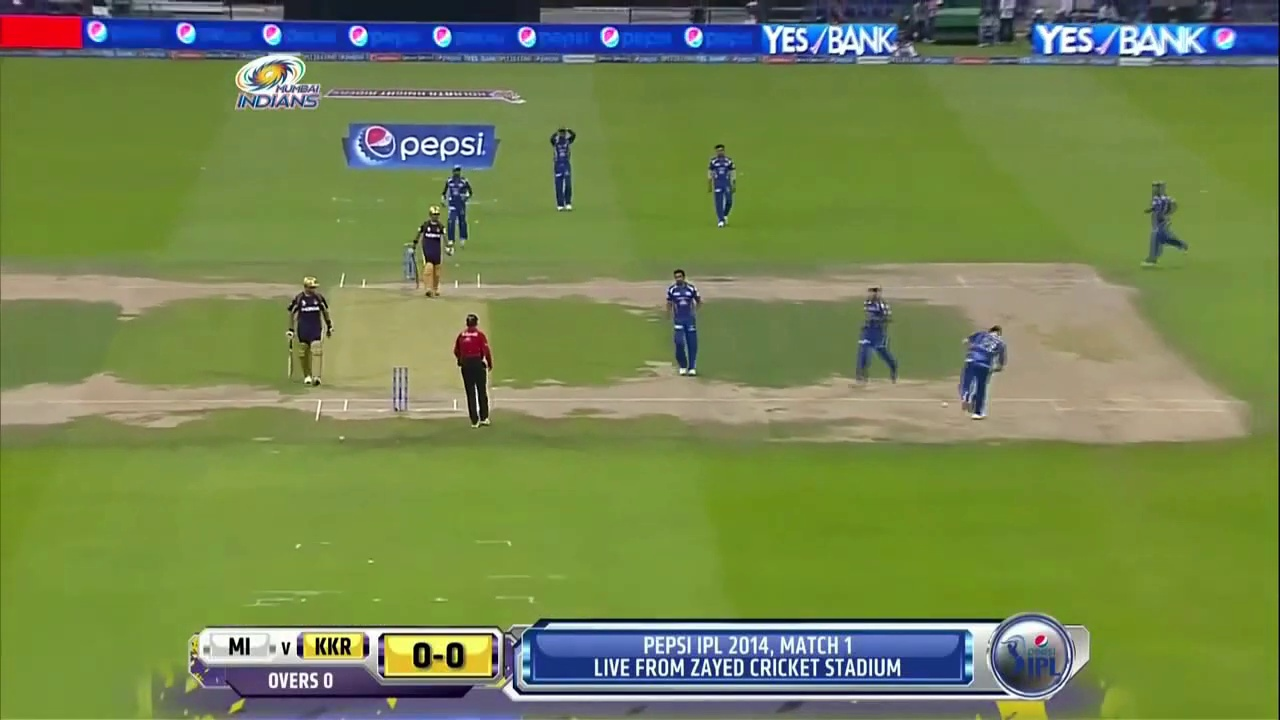bat: (412, 258, 421, 290), (287, 343, 295, 378)
stumps: (391, 365, 409, 413)
